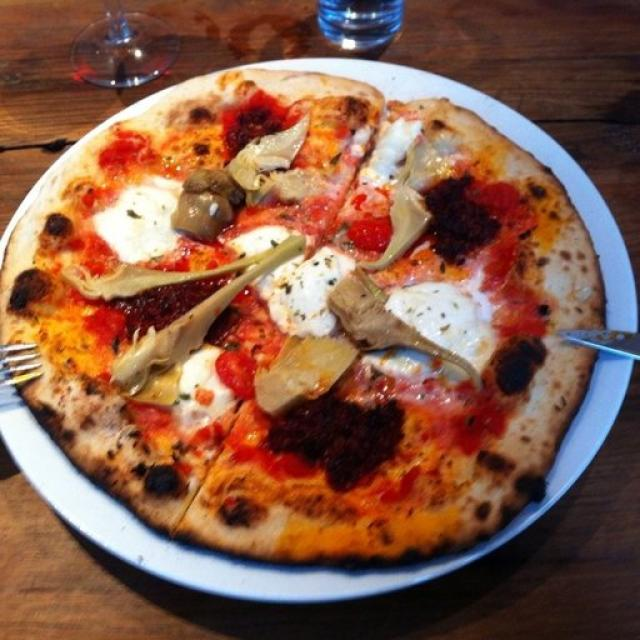Cheese: (397, 285, 493, 371), (93, 183, 173, 260), (354, 118, 418, 178), (276, 268, 330, 332), (186, 354, 232, 424)
Pizza: (0, 71, 606, 570)
Tomato: (460, 394, 502, 453), (224, 351, 252, 400), (342, 218, 388, 246)
